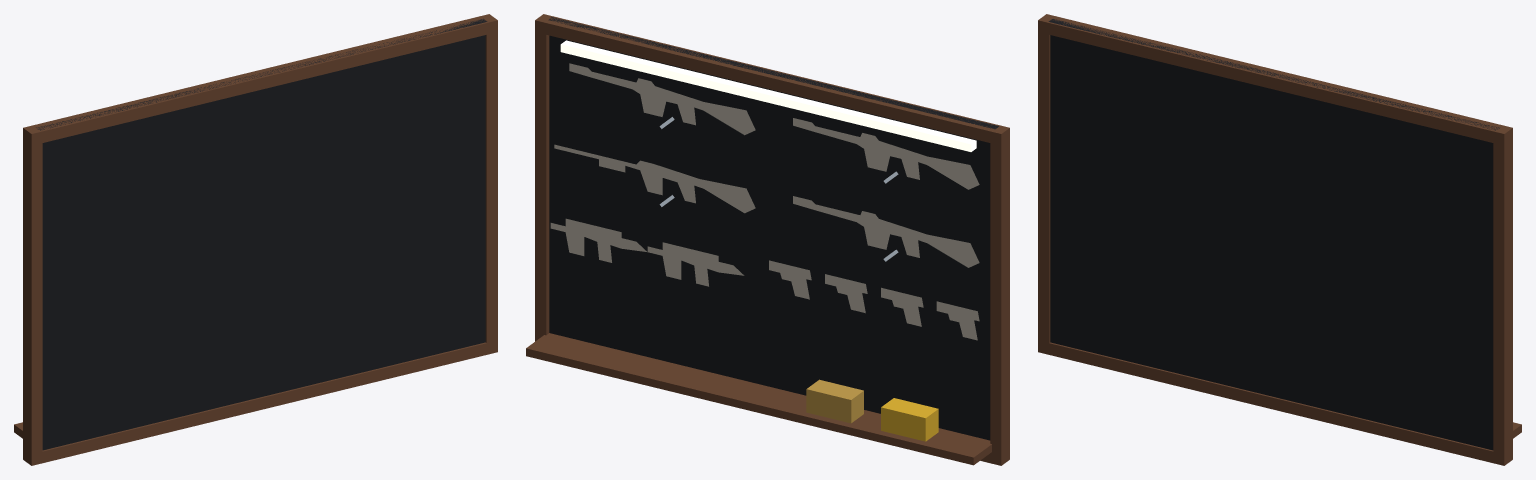
File: weapon_rack_wall.glb
3 renders of one model, left to right at view 1: azimuth 30°, elevation 25°; view 2: azimuth 150°, elevation 25°; view 3: azimuth 330°, elevation 25°, orthographic.
Parts seen in each view (by area): view 1: Body; view 2: Body; view 3: Body.
Boxes of the visible parts, x1,y1,x2,y2 form: Body: [14, 14, 497, 465]; Body: [526, 14, 1009, 465]; Body: [1038, 14, 1521, 465].
Bounding box in the file's own units: 2.5 × 1.7 × 0.25.
